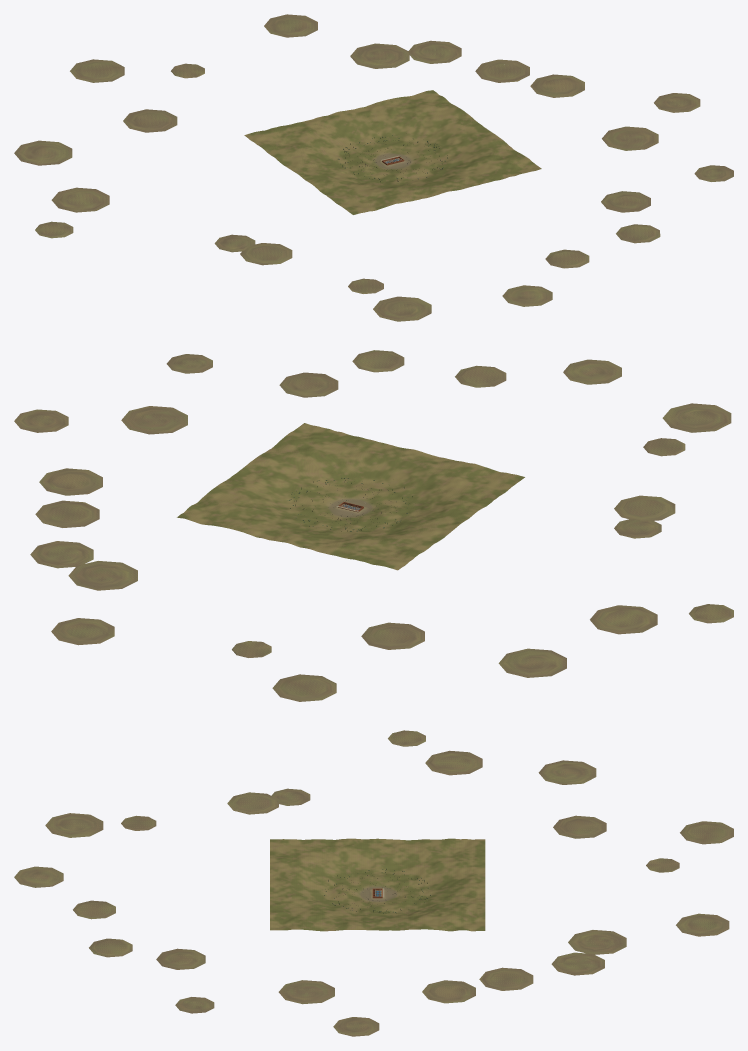
Rendered from yerebatan-sarnici-baked.glb.
The picture shows the model from 3 angles, top to bottom: view 1: azimuth 30°, elevation 25°; view 2: azimuth 150°, elevation 25°; view 3: azimuth 270°, elevation 25°; orthographic projection. The views are drawn at different scales.
Visible parts, largest first — view 1: yerebatan-sarnici-terrain, yerebatan-sarnici-ground; view 2: yerebatan-sarnici-terrain, yerebatan-sarnici-ground; view 3: yerebatan-sarnici-terrain, yerebatan-sarnici-ground.
Boxes of the visible parts, bbox=[...] form: yerebatan-sarnici-terrain: bbox=[244, 90, 541, 214]; yerebatan-sarnici-ground: bbox=[14, 14, 733, 321]; yerebatan-sarnici-terrain: bbox=[177, 423, 524, 570]; yerebatan-sarnici-ground: bbox=[14, 350, 733, 701]; yerebatan-sarnici-terrain: bbox=[270, 838, 485, 931]; yerebatan-sarnici-ground: bbox=[14, 730, 733, 1036].
Bounding box in the file's own units: 5400 × 91.13 × 5364.
18 materials, 13 textured.
